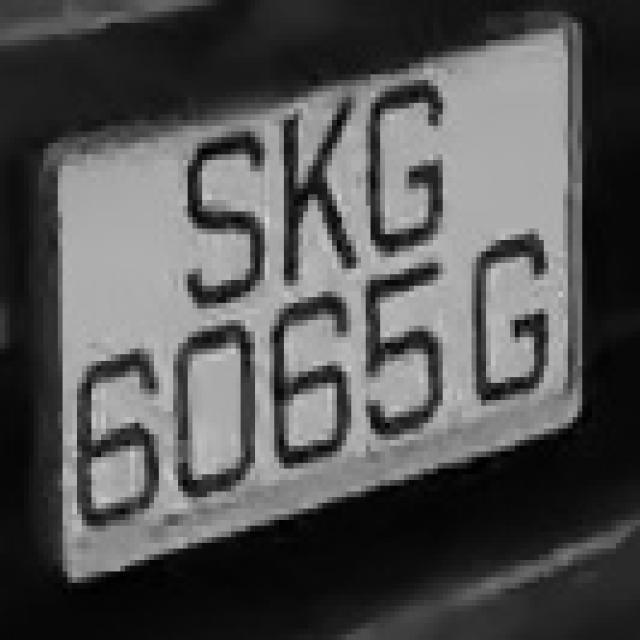0: (154, 314, 265, 514)
5: (366, 252, 448, 457)
6: (67, 337, 154, 537), (255, 280, 342, 463)
G: (346, 63, 462, 257), (457, 234, 558, 423)
K: (270, 74, 366, 309)
S: (154, 126, 274, 314)
